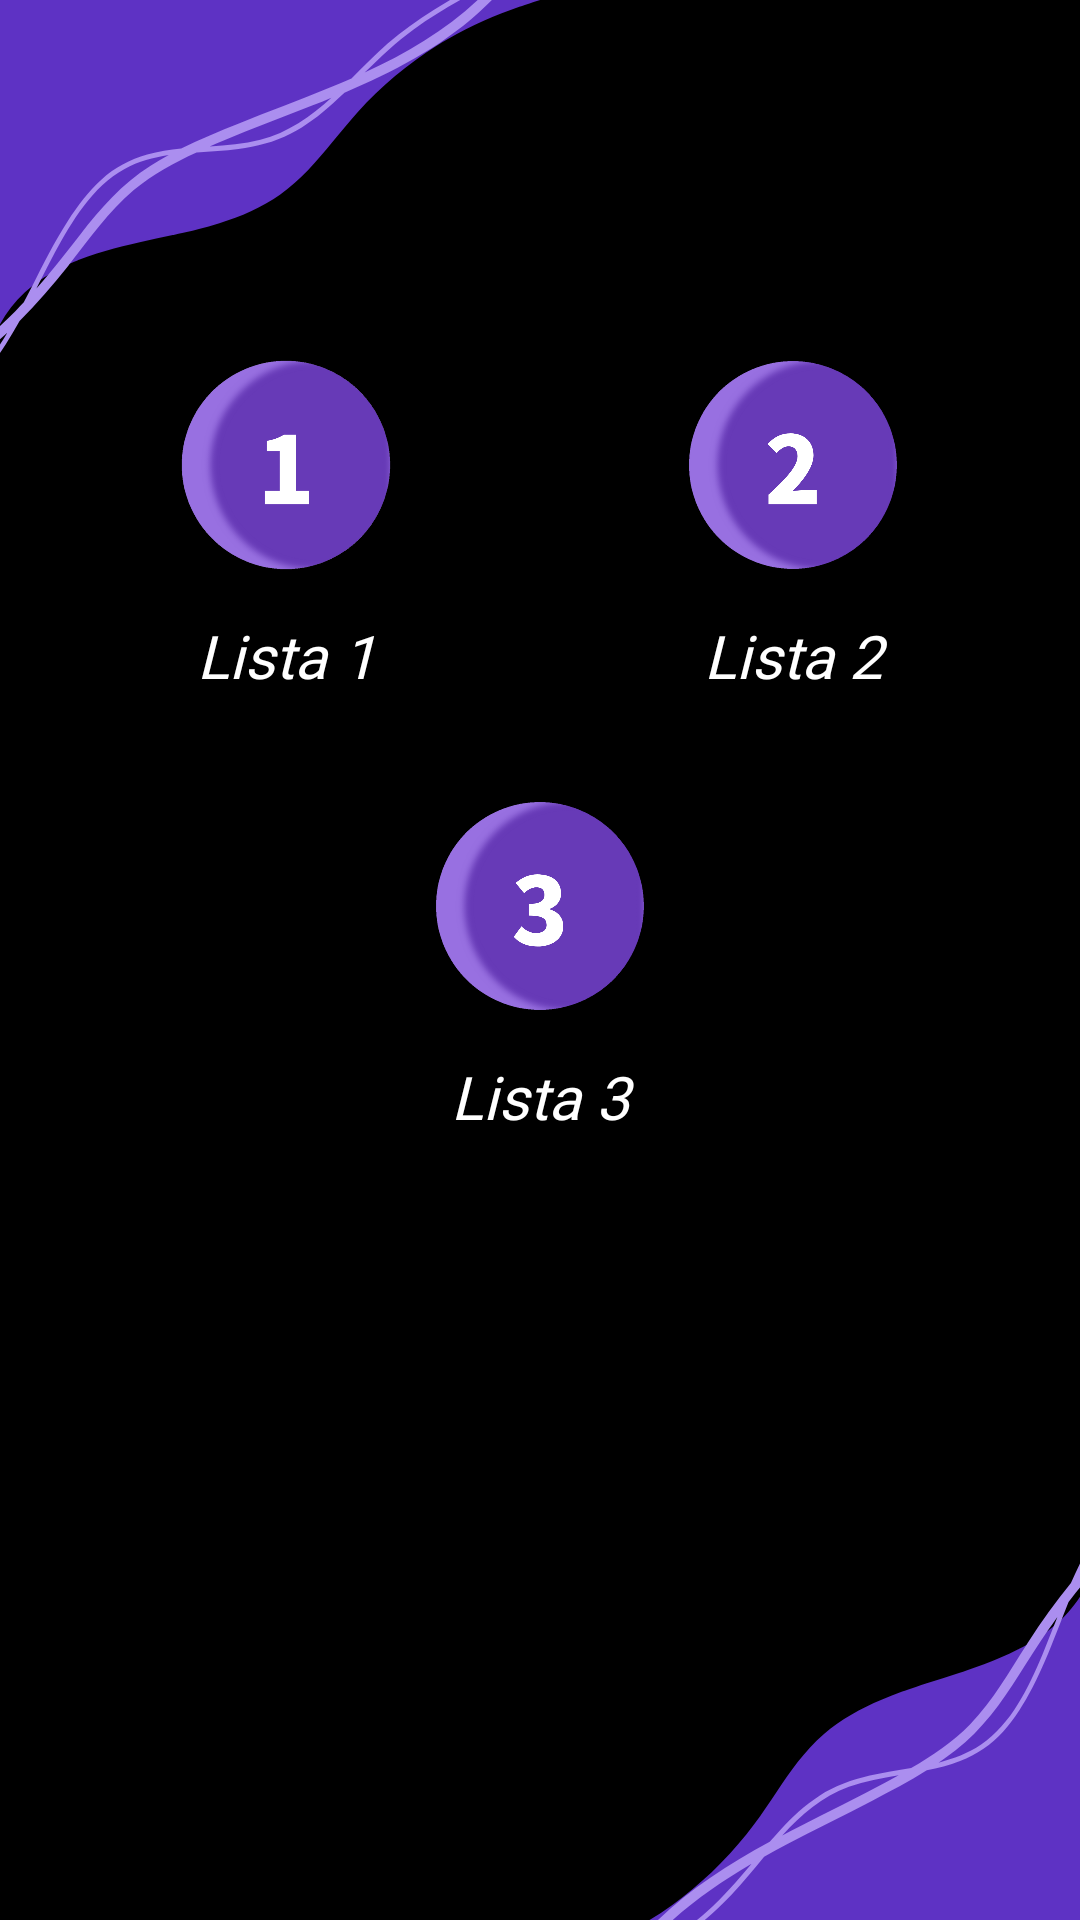

Icons on this 1080w x 1920h Android screen, each with its box as box(x1, y1, x2, y2):
numero: box(436, 802, 644, 1010)
